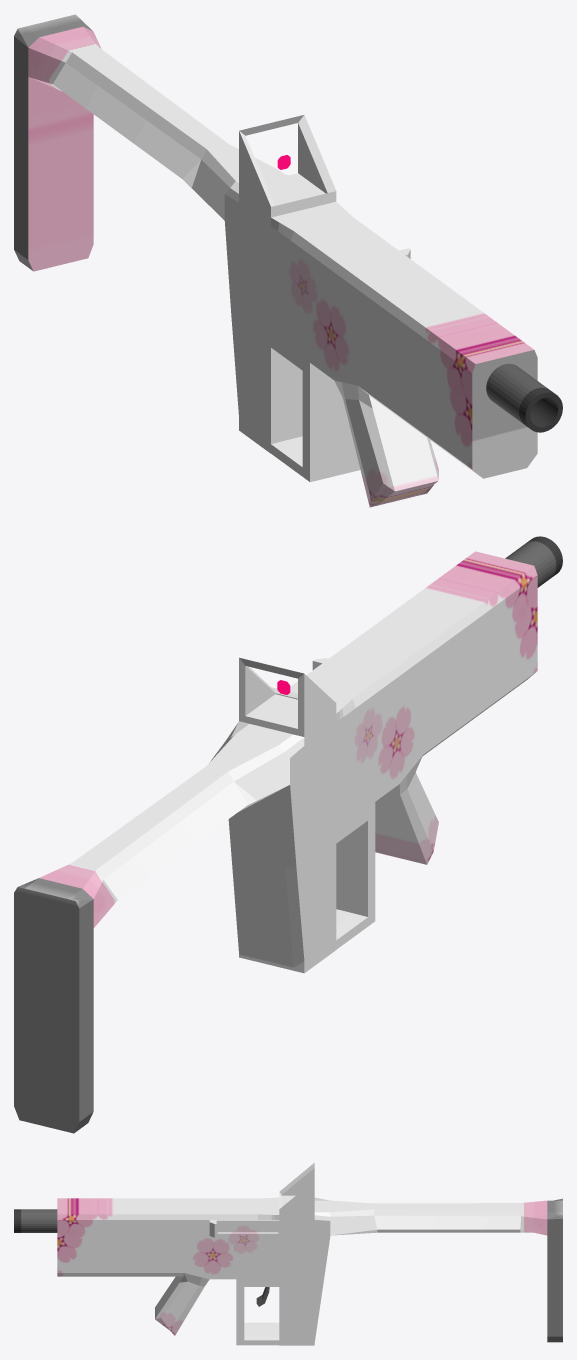
File: sub-machinegun.glb
The picture shows the model from 3 angles, top to bottom: view 1: azimuth 30°, elevation 25°; view 2: azimuth 150°, elevation 25°; view 3: azimuth 270°, elevation 25°; orthographic projection. The views are drawn at different scales.
Visible parts, largest first — view 1: Cube; view 2: Cube; view 3: Cube.
Boxes of the visible parts, left/top/right/bottom form: Cube: left=14, top=14, right=562, bottom=507; Cube: left=14, top=536, right=562, bottom=1133; Cube: left=14, top=1163, right=562, bottom=1345.
Bounding box in the file's own units: 0.6185 × 2.19 × 6.59.
2 materials, 1 textured.
